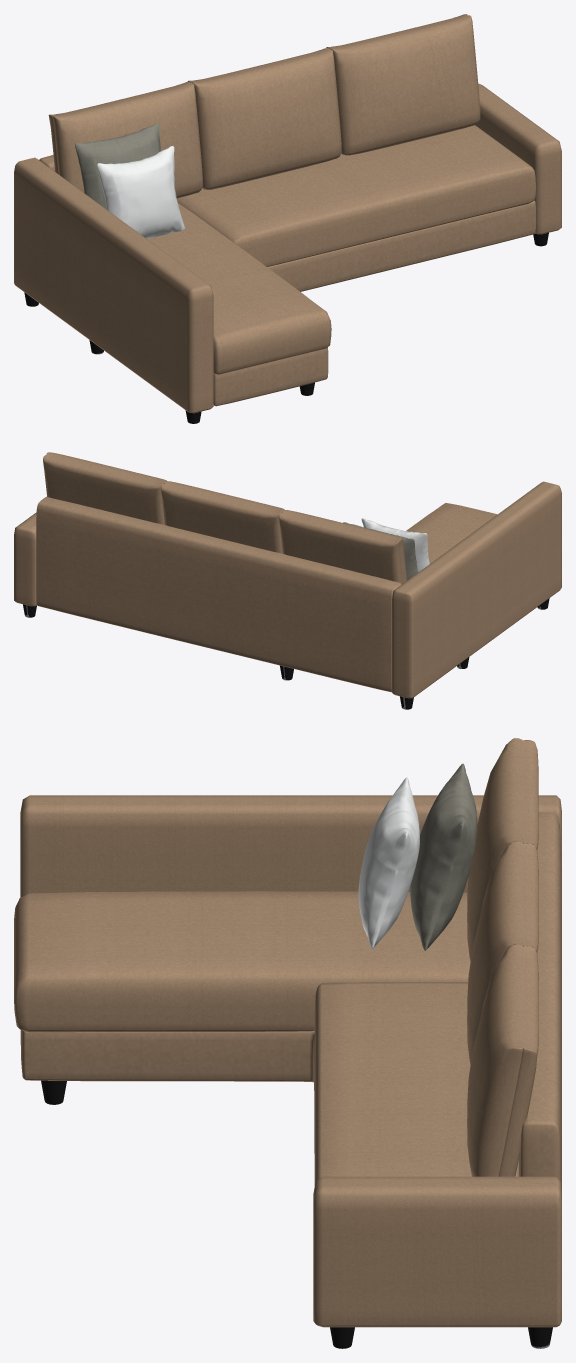
3 renders of one model, top to bottom at view 1: azimuth 30°, elevation 25°; view 2: azimuth 150°, elevation 25°; view 3: azimuth 270°, elevation 25°, orthographic. The views are drawn at different scales.
Visible parts, largest first — view 1: pCube7, pCube10, pCube14, pCube15.001, pCube9, pCube6, pCube16, Low, pCube11, Pillow1:Mesh; view 2: pCube6, pCube7, pCube16, pCube14, pCube15.001, pCube9, pCube11, Low, Pillow1:Mesh; view 3: pCube9, pCube11, pCube7, pCube10, pCube6, pCube14, Pillow1:Mesh, pCube15.001, pCube16, Low.
Part boxes in pixels (<box>): pCube7: <box>14,157,213,413</box>; pCube10: <box>177,125,535,266</box>; pCube14: <box>326,14,480,155</box>; pCube15.001: <box>187,48,341,189</box>; pCube9: <box>147,203,331,374</box>; pCube6: <box>39,155,535,406</box>; pCube16: <box>48,82,202,198</box>; Low: <box>97,146,185,238</box>; pCube11: <box>475,83,561,234</box>; Pillow1:Mesh: <box>75,123,160,209</box>; pCube6: <box>36,496,401,692</box>; pCube7: <box>392,481,561,698</box>; pCube16: <box>279,510,407,584</box>; pCube14: <box>43,452,166,524</box>; pCube15.001: <box>161,481,284,553</box>; pCube9: <box>406,503,497,563</box>; pCube11: <box>14,512,36,606</box>; Low: <box>361,518,429,572</box>; Pillow1:Mesh: <box>343,522,417,580</box>; pCube9: <box>14,891,470,1032</box>; pCube11: <box>313,1176,561,1327</box>; pCube7: <box>20,795,561,906</box>; pCube10: <box>314,982,519,1185</box>; pCube6: <box>20,812,561,1191</box>; pCube14: <box>467,944,538,1176</box>; Pillow1:Mesh: <box>410,763,477,950</box>; pCube15.001: <box>467,841,538,1064</box>; pCube16: <box>467,738,538,961</box>; Low: <box>358,777,419,948</box>.
Bounding box in the file's own units: 1.75 × 0.6773 × 1.17.
Materials: 1 (1 with a texture image).
